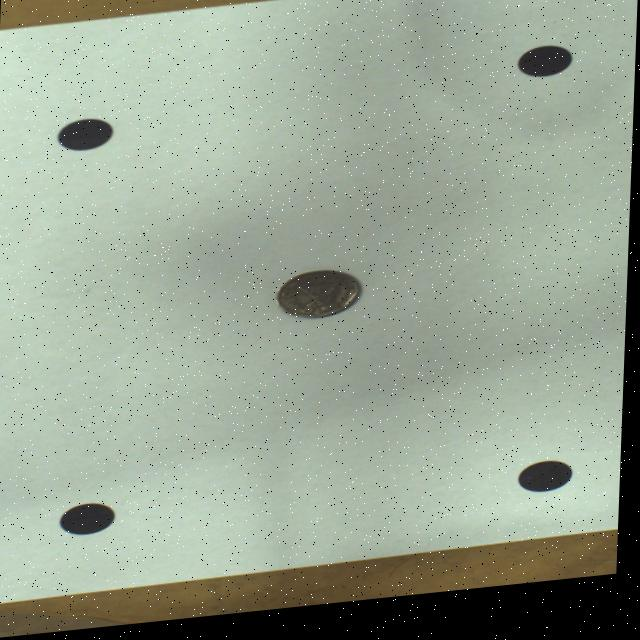space: (58, 121, 113, 153), (521, 473, 575, 505), (63, 505, 117, 537), (517, 58, 572, 89)
tail5bath: (279, 277, 364, 326)
